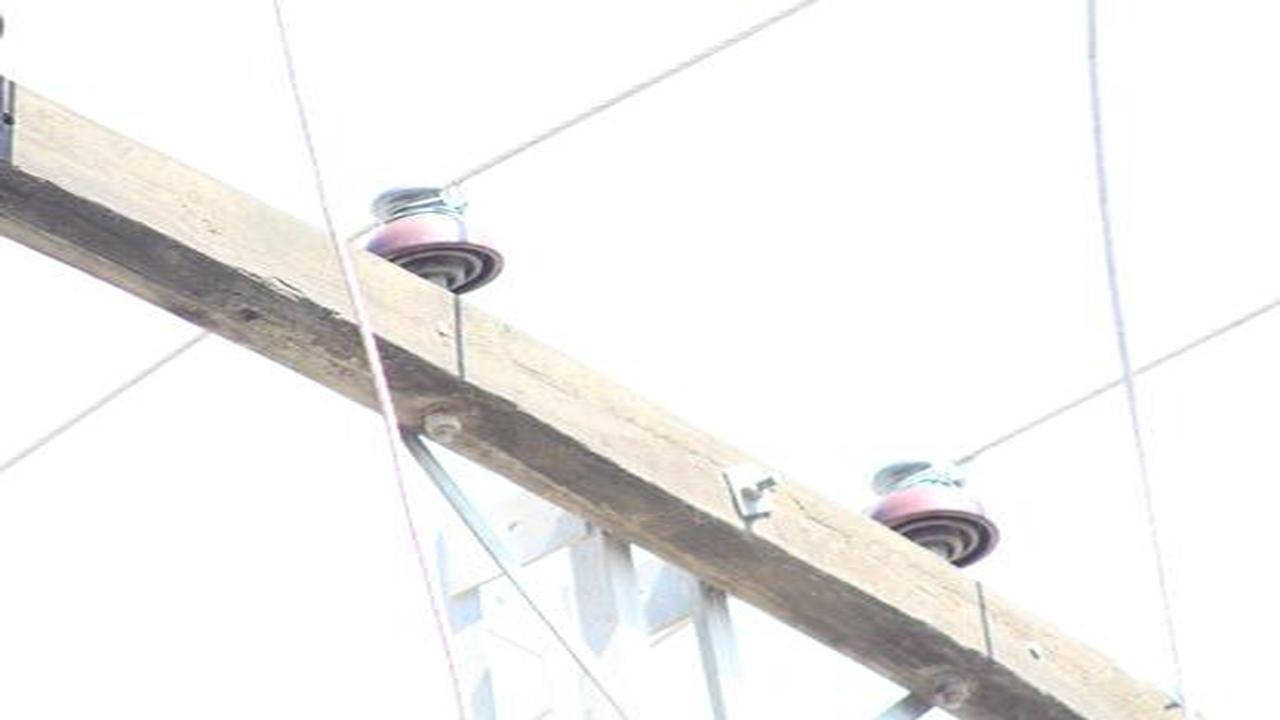insulator_pin: (362, 179, 507, 295), (865, 456, 1006, 561)
